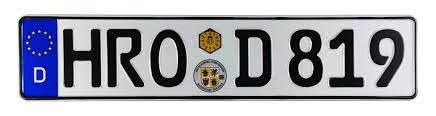1: (326, 27, 367, 90)
8: (286, 27, 325, 89)
9: (368, 26, 408, 89)
D: (232, 27, 277, 87)
H: (60, 27, 103, 89)
O: (148, 27, 189, 90)
R: (105, 26, 145, 89)
